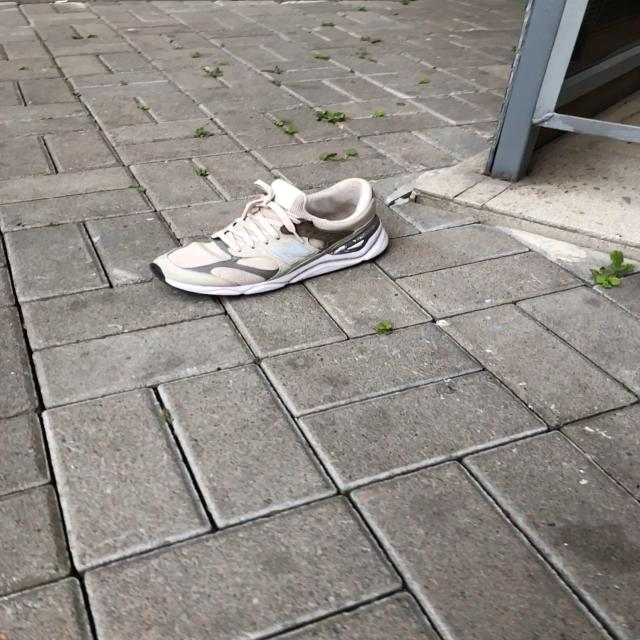shoe: (149, 177, 391, 304)
